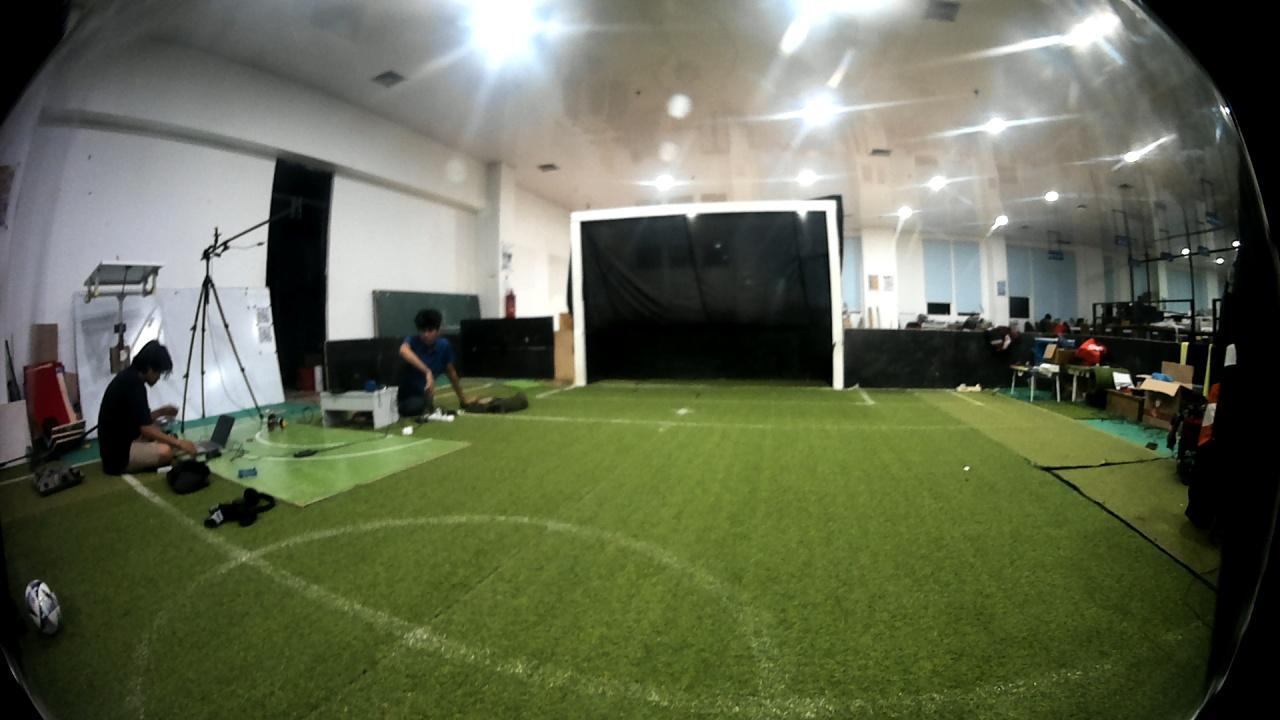ball: (24, 577, 64, 641)
